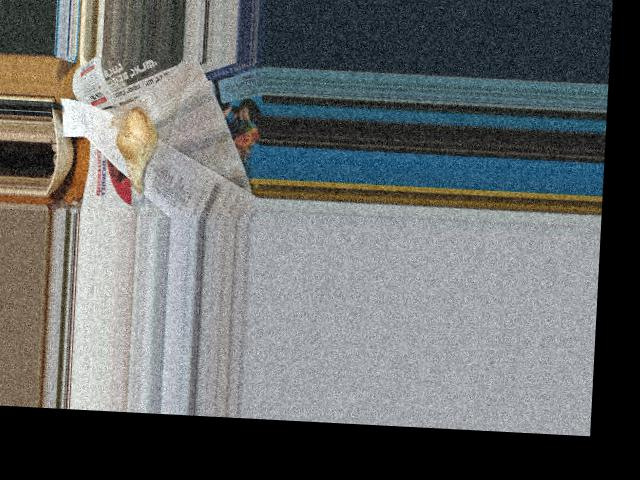onion: (113, 108, 162, 191)
